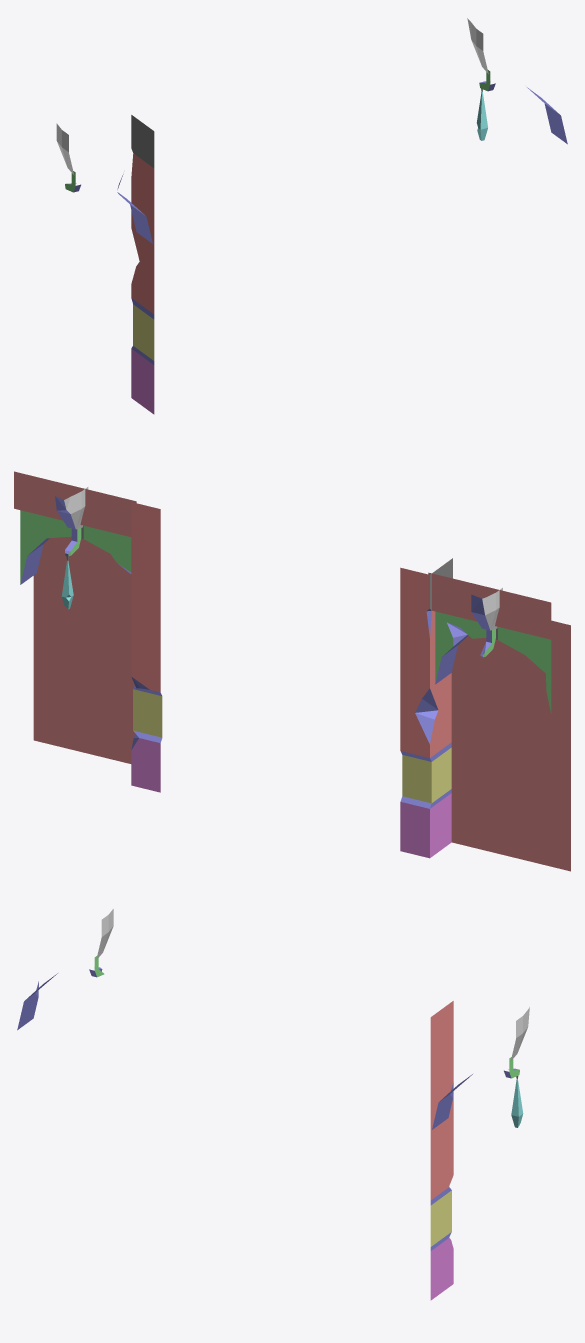
Rendered from SSQ_BRoom02_wall03.gltf.
3 renders of one model, top to bottom at view 1: azimuth 30°, elevation 25°; view 2: azimuth 150°, elevation 25°; view 3: azimuth 330°, elevation 25°, orthographic.
Visible parts, largest first — view 1: SSQ_BRoom02_wall03; view 2: SSQ_BRoom02_wall03; view 3: SSQ_BRoom02_wall03.
Boxes of the visible parts, x1,y1,x2,y2 form: SSQ_BRoom02_wall03: (56,18,567,414); SSQ_BRoom02_wall03: (14,471,570,871); SSQ_BRoom02_wall03: (17,909,529,1300).
Bounding box in the file's own units: 7.7 × 3.88 × 0.9398.
